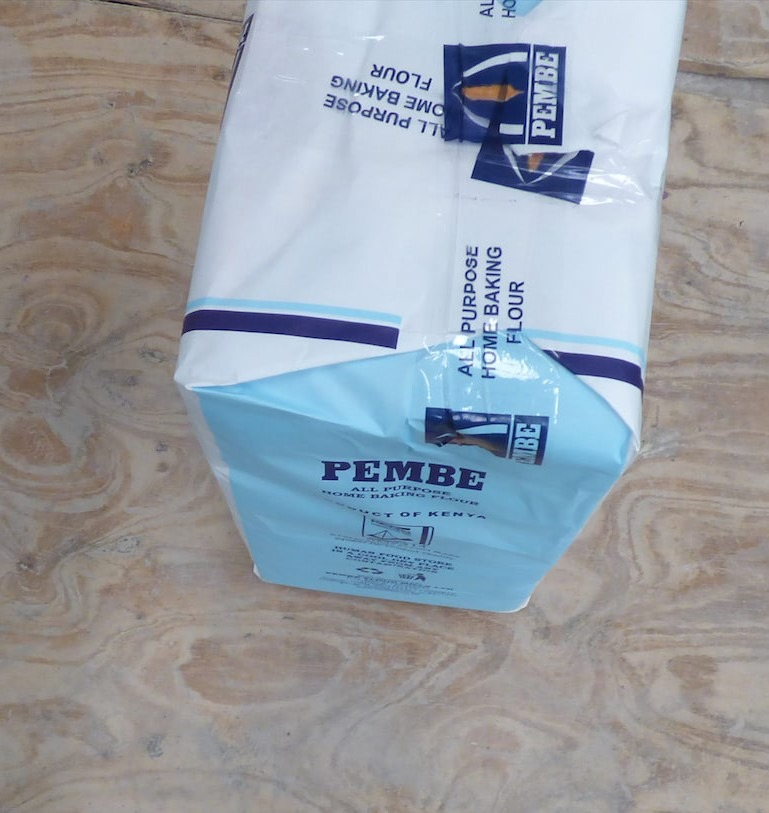wheat_flour_blue_label: (175, 2, 682, 613)
